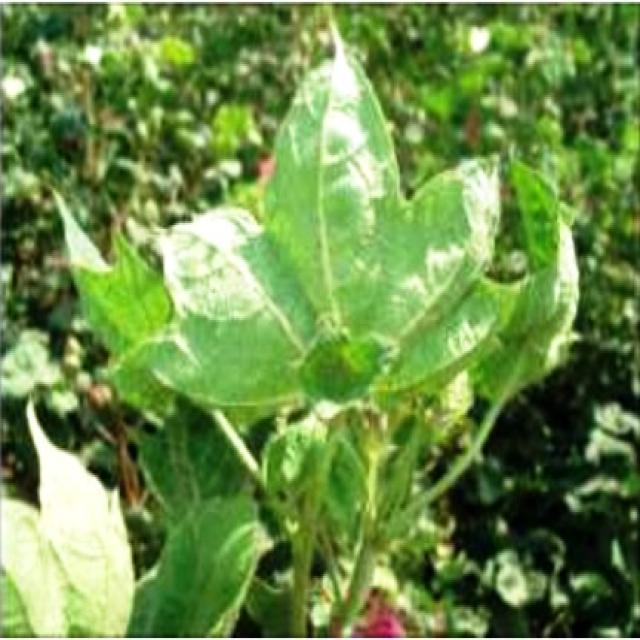Leaf Curl Virus: (234, 154, 484, 457)
